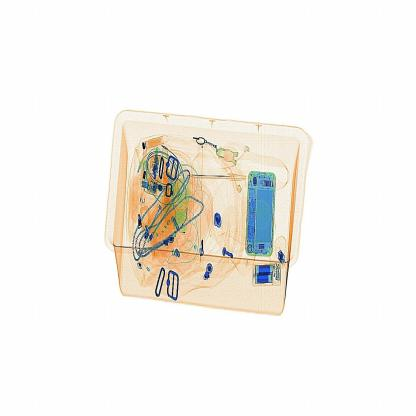pliers: (181, 160, 252, 194)
